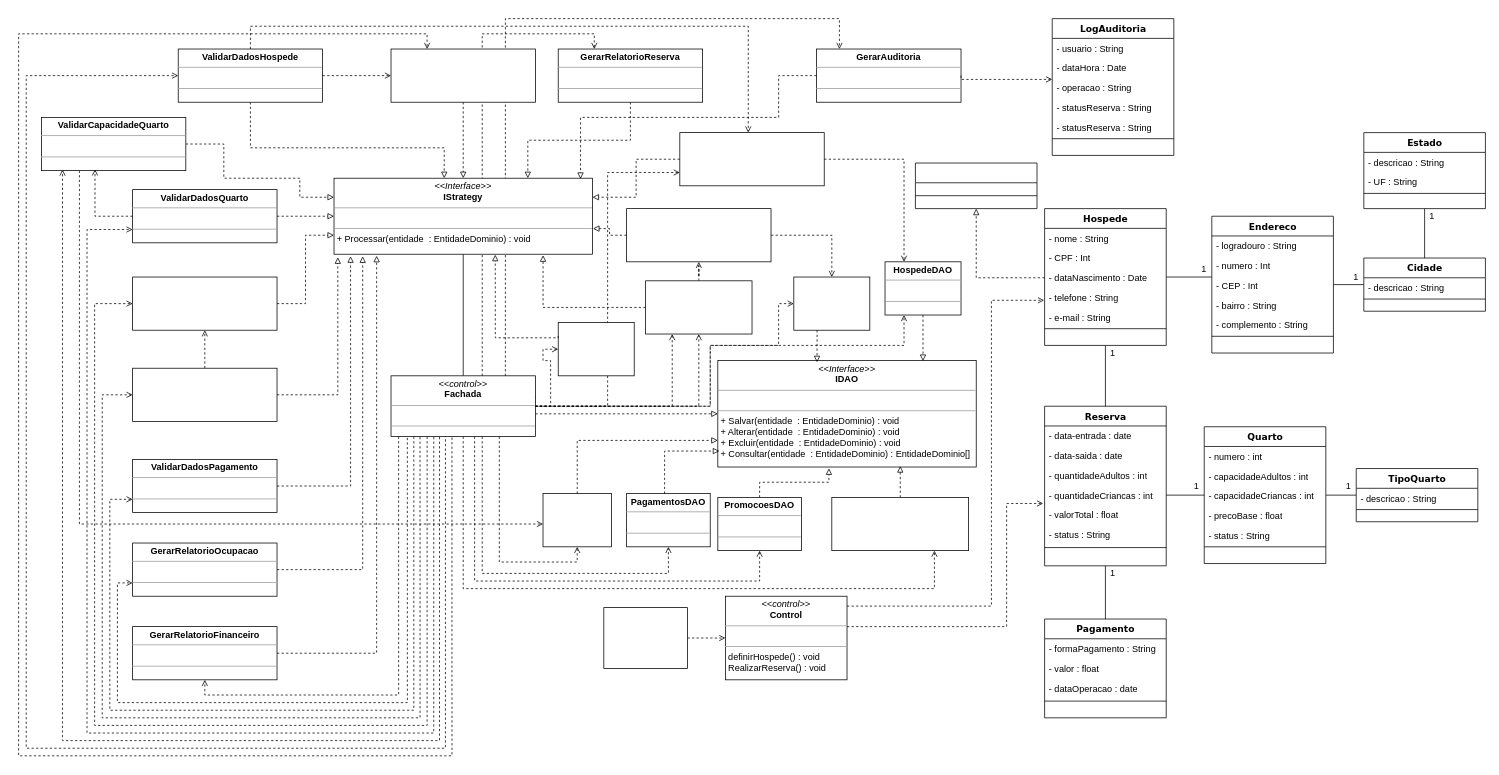
This 1499x775 diagram has some shape labels left out. Each missing label, with the centre of its shape:
<<forms>> FormHospede: point (645, 637)
ConsultarDisponibilidade: point (698, 235)
EntidadeDominio: point (976, 185)
PoliticasCancelamentoDAO: point (900, 524)
QuartosDAO: point (576, 520)
ReservaDAO: point (831, 303)
ValidarCPF: point (751, 159)
ValidarDadosReseva: point (204, 394)
ValidarDataReserva: point (204, 303)
ValidarEmail: point (462, 75)
ValidarFeriado: point (595, 349)
VerificarCancelamento: point (698, 307)
